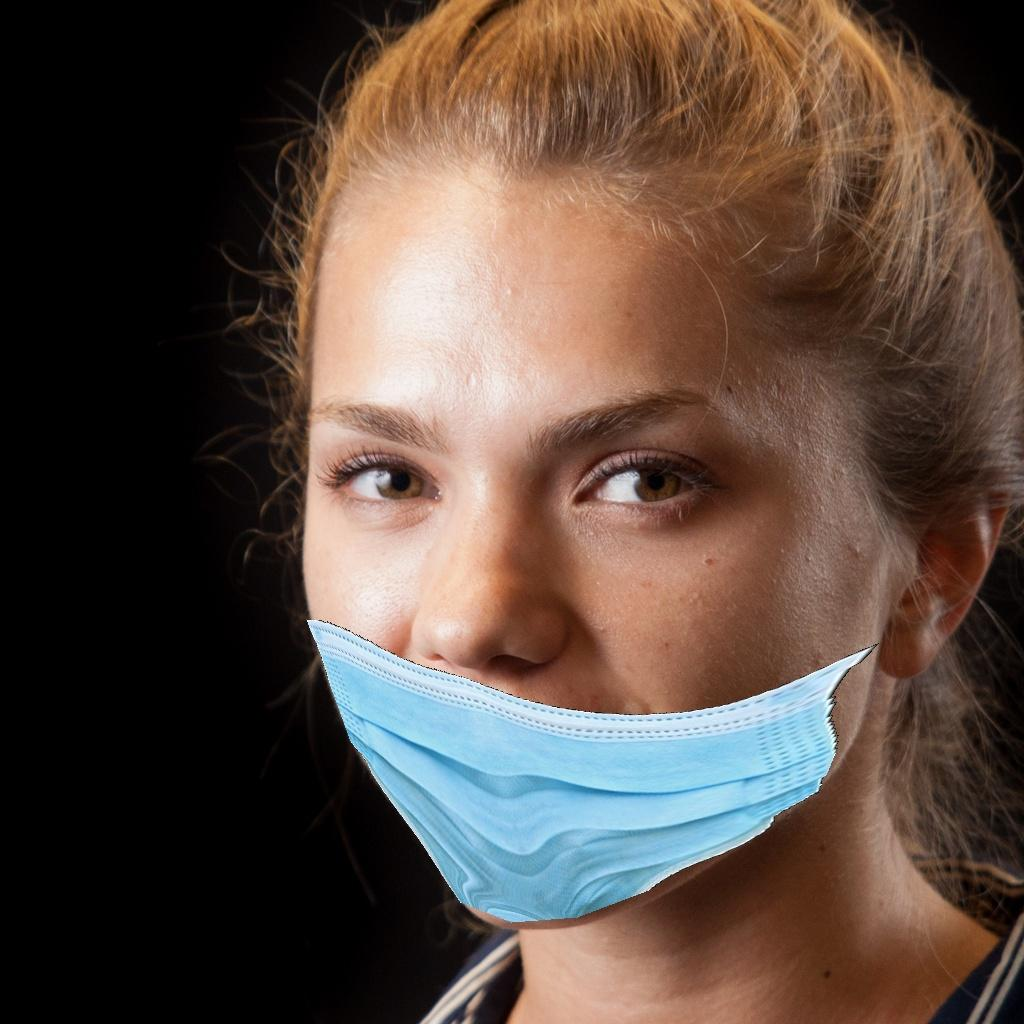Máscara Incorreta: (280, 233, 881, 898)
